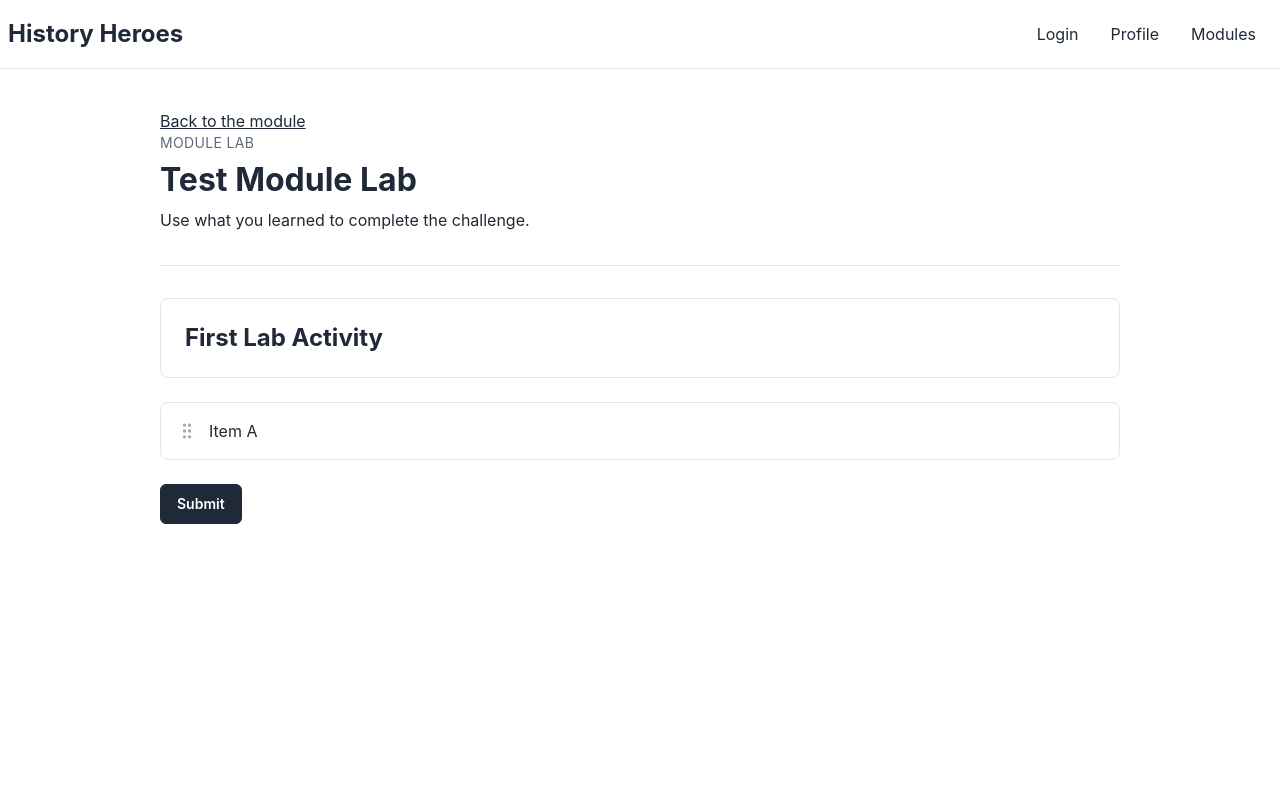
submitting an activity shows its check statement and result
The image size is (1280, 800).
Check: the heading "Test Module Lab" is shown, box [160,160,417,199]
Click the button "Submit".
click(201, 504)  # box [160,484,242,524]
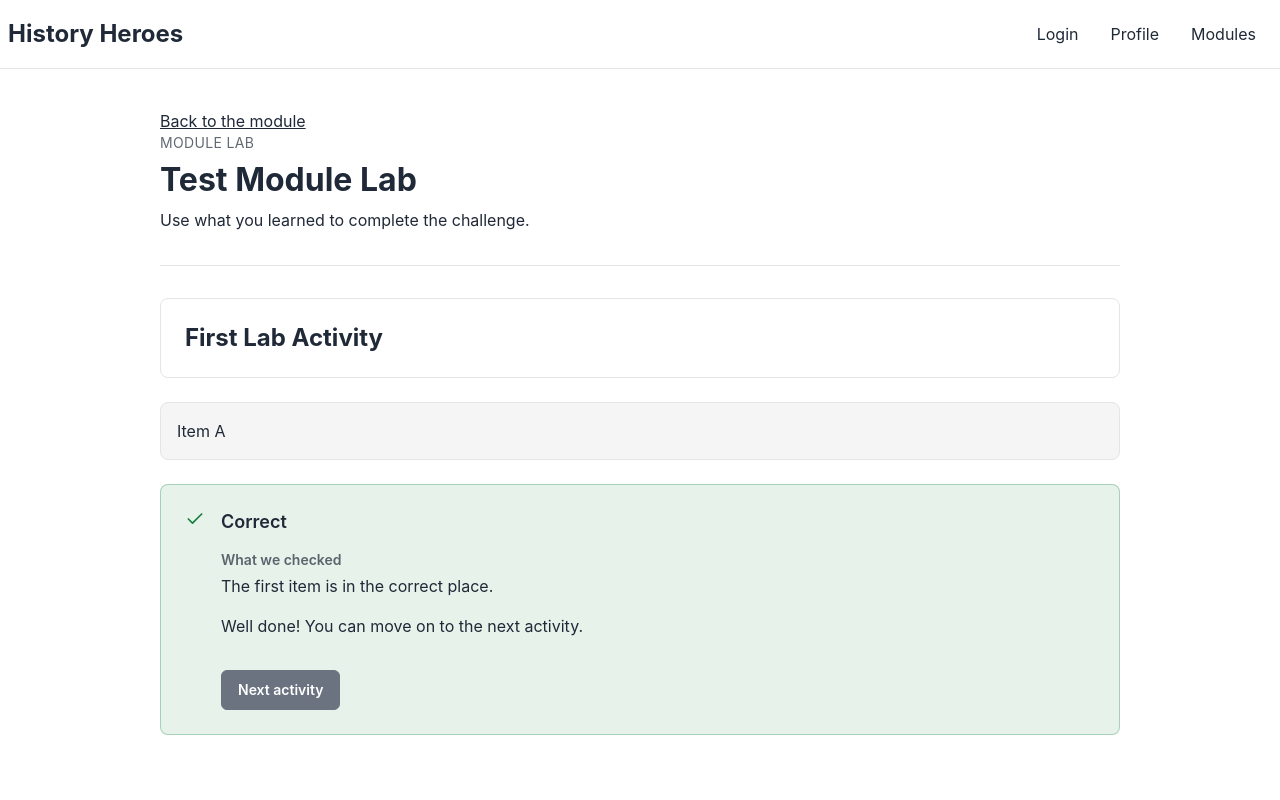
Check: the text "The first item is in the correct place." is shown, box [221,576,493,596]
Check: the heading "Correct" is shown, box [221,511,287,532]
